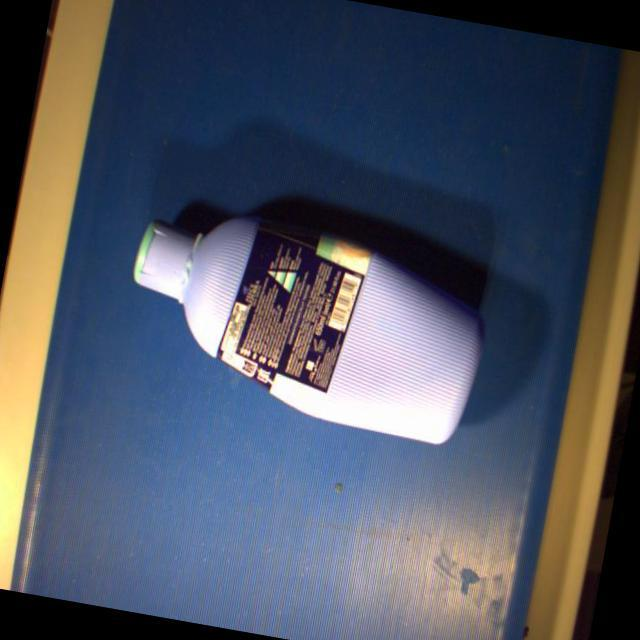HDPE Plastic: (127, 210, 485, 448)
